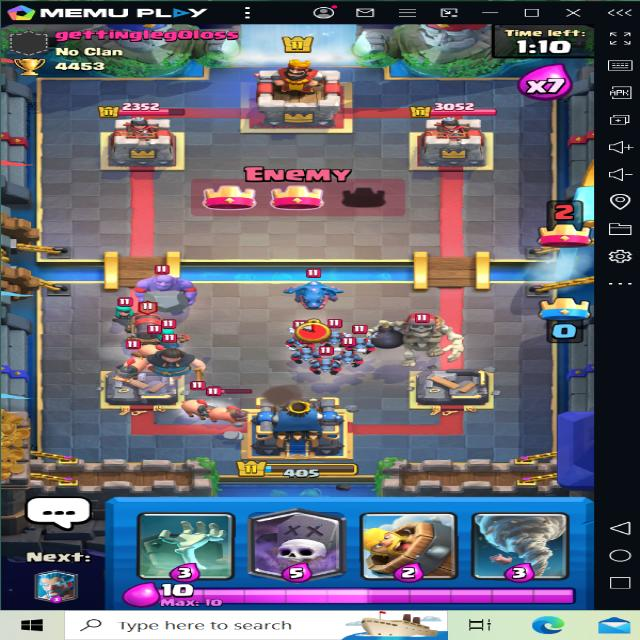Bowler: (129, 258, 211, 316)
Cannoncart: (124, 301, 166, 341)
Edragon: (278, 265, 350, 314)
Giantskeleton: (370, 306, 465, 372)
Minions: (285, 339, 321, 364), (352, 326, 383, 354), (308, 352, 342, 377), (335, 343, 362, 369), (326, 319, 351, 347)
Rascalboy: (138, 342, 210, 377)
Rascalgirl: (157, 322, 195, 348), (104, 293, 140, 319)
Royalhogs: (103, 352, 153, 384), (183, 386, 221, 421), (210, 396, 252, 422), (126, 337, 168, 359)
